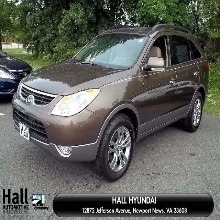no damage: (11, 23, 209, 181), (1, 47, 34, 98)
